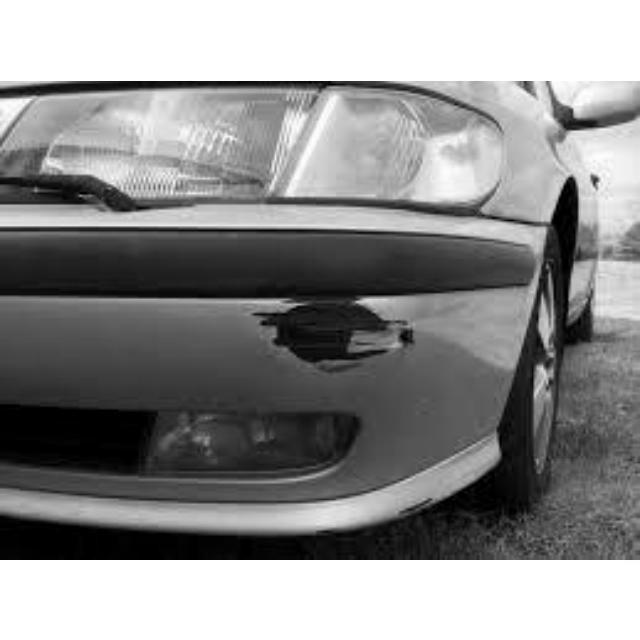front-bumper-dent: (0, 293, 548, 520)
